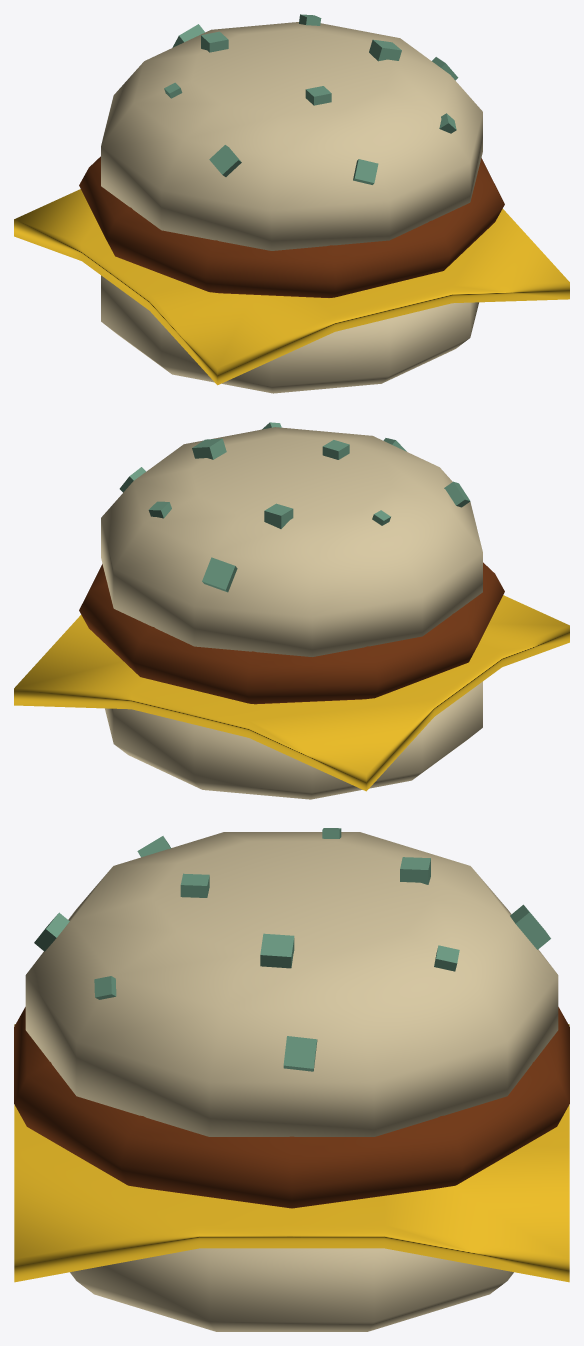
File: moldy-burger.fbx
3 views of the same model, one above another, from view 1: azimuth 30°, elevation 25°; view 2: azimuth 150°, elevation 25°; view 3: azimuth 270°, elevation 25° (orthographic). The views are drawn at different scales.
Visible parts, largest first — view 1: bun-top-normal, cheese-normal, meat-normal, bun-bottom-normal, bun-mold-normal; view 2: bun-top-normal, cheese-normal, meat-normal, bun-bottom-normal, bun-mold-normal; view 3: bun-top-normal, cheese-normal, meat-normal, bun-bottom-normal, bun-mold-normal.
Part boxes in pixels (x1,y1,x2,y2): bun-top-normal: (101,22,482,250); cheese-normal: (14,189,569,385); meat-normal: (79,156,504,297); bun-bottom-normal: (101,275,478,393); bun-mold-normal: (164,14,458,184); bun-top-normal: (101,427,482,656); cheese-normal: (14,595,569,791); meat-normal: (79,562,504,704); bun-bottom-normal: (105,681,482,799); bun-mold-normal: (119,422,470,592); bun-top-normal: (25,832,558,1136); cheese-normal: (14,1024,569,1282); meat-normal: (14,1007,569,1208); bun-bottom-normal: (70,1248,513,1331); bun-mold-normal: (34,828,550,1071).
Bounding box in the file's own units: 237 × 158 × 225.
